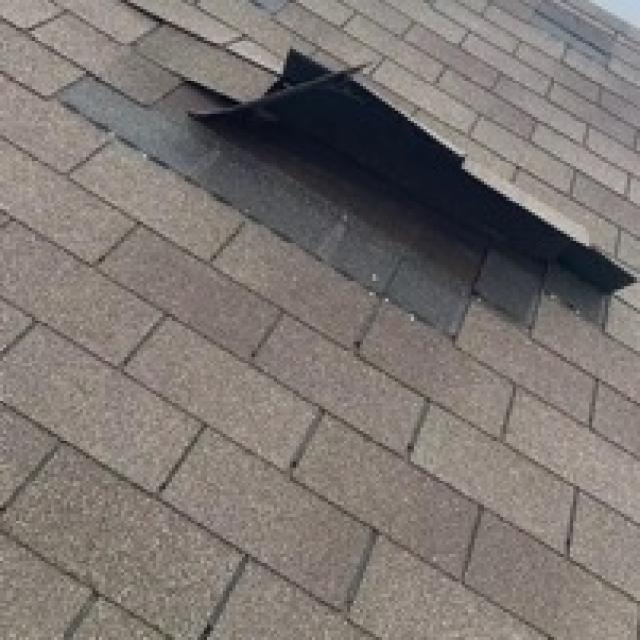damage: (41, 48, 640, 343)
